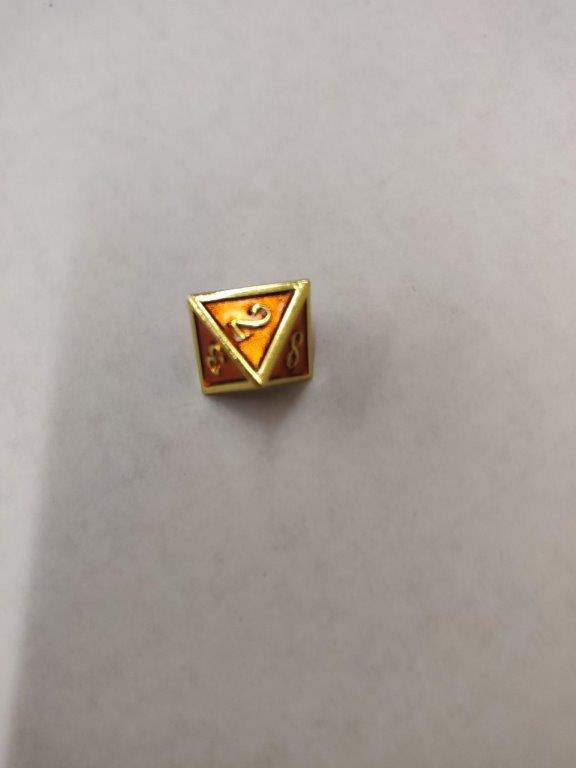d8-2: (188, 278, 317, 399)
